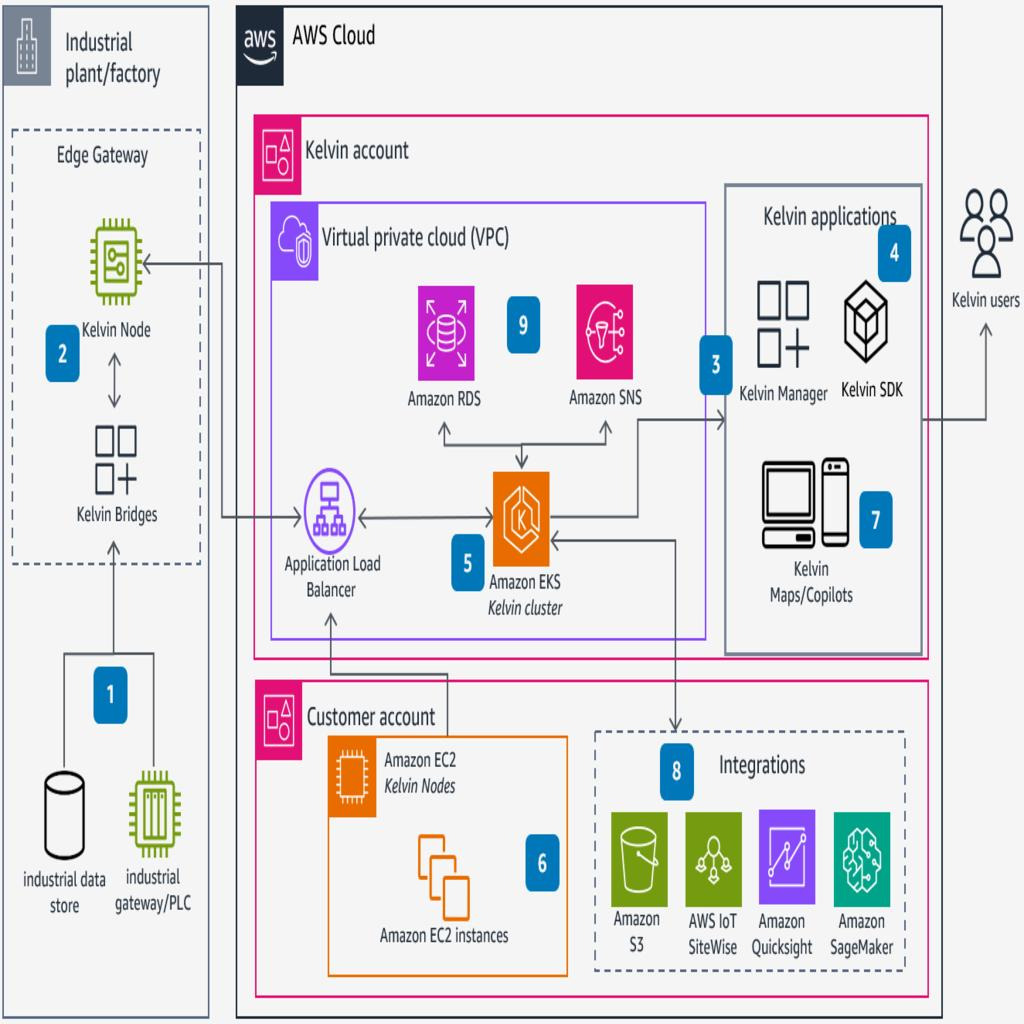actor: (960, 188, 1012, 278)
compute: (760, 460, 848, 548), (490, 468, 550, 566), (694, 816, 742, 894), (91, 219, 138, 297), (91, 422, 138, 500), (303, 465, 350, 543), (757, 280, 804, 358), (843, 280, 890, 358), (423, 735, 470, 813), (423, 834, 470, 912), (130, 775, 177, 853), (838, 816, 884, 894)
data_flow: (610, 387, 616, 694), (234, 258, 240, 520), (112, 532, 118, 776), (550, 514, 724, 520), (86, 514, 252, 520), (356, 514, 492, 520), (983, 278, 989, 402), (328, 671, 446, 677), (324, 548, 330, 664), (634, 416, 640, 518), (18, 734, 108, 740), (633, 417, 723, 423), (139, 261, 226, 267), (114, 734, 192, 740), (442, 442, 520, 448), (522, 442, 600, 448), (923, 417, 984, 423), (112, 349, 118, 392), (517, 424, 523, 467)
database_storage: (418, 286, 465, 364), (766, 816, 813, 894), (42, 772, 85, 856), (616, 816, 662, 894)
network_security: (580, 286, 628, 364)
trust_boundary: (236, 10, 932, 1014), (253, 678, 927, 997), (2, 10, 210, 1014), (261, 201, 697, 639), (253, 44, 927, 189), (724, 184, 923, 656), (12, 127, 199, 565), (593, 733, 906, 977), (326, 733, 567, 977)
